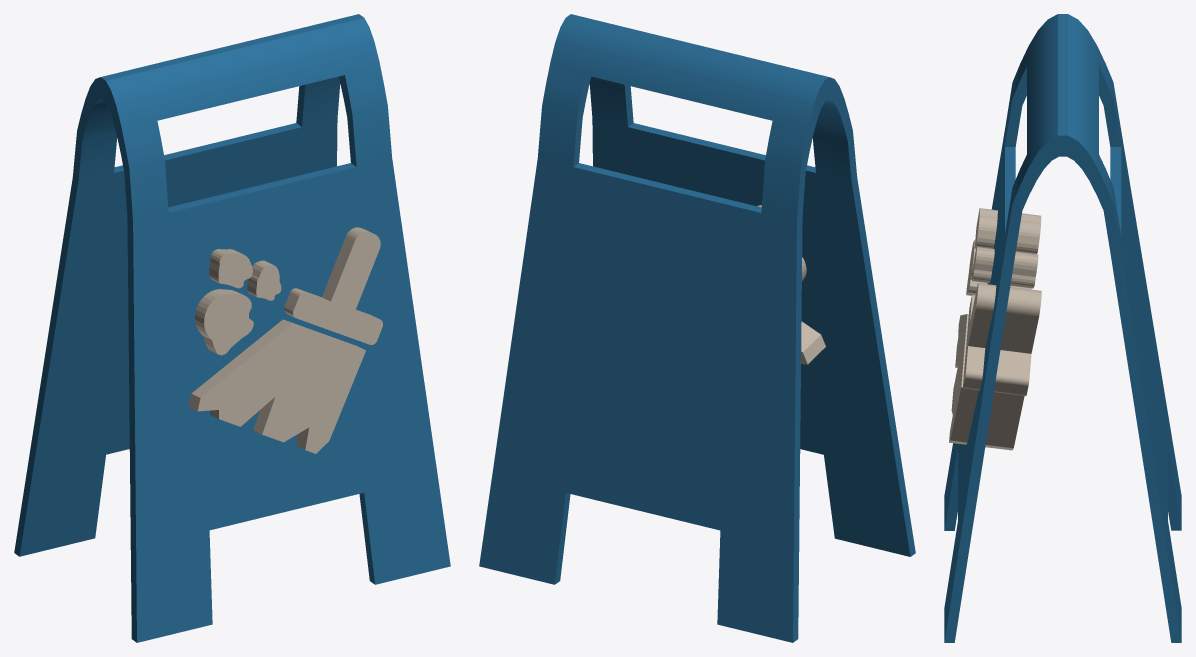
Rendered from cleaningicon.fbx.
The picture shows the model from 3 angles, left to right: view 1: azimuth 30°, elevation 25°; view 2: azimuth 150°, elevation 25°; view 3: azimuth 270°, elevation 25°; orthographic projection. The views are drawn at different scales.
Visible parts, largest first — view 1: cleningicon; view 2: cleningicon; view 3: cleningicon.
Part boxes in pixels (<box>): cleningicon: <box>14,14,450,642</box>; cleningicon: <box>479,14,915,642</box>; cleningicon: <box>944,14,1181,642</box>.
Bounding box in the file's own units: 58.58 × 91.4 × 39.73.
